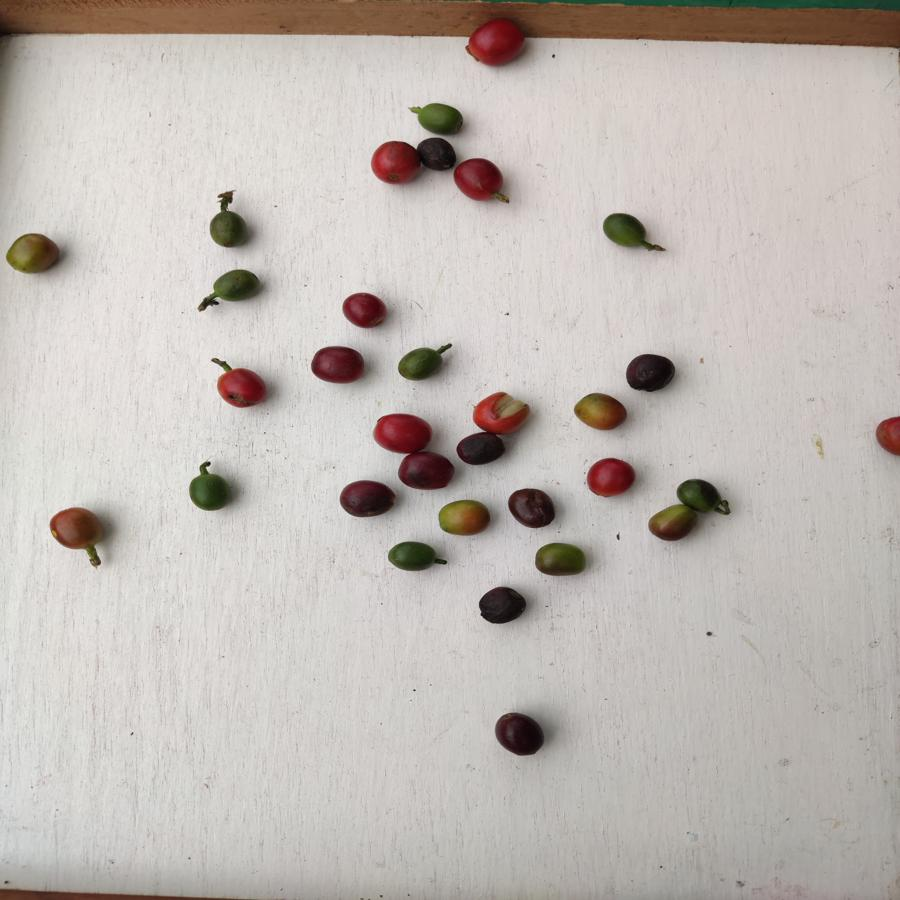Inmaduro: (413, 101, 466, 138), (601, 211, 650, 250), (210, 267, 261, 304), (676, 476, 724, 514), (396, 346, 444, 383), (386, 541, 436, 576), (187, 474, 231, 512), (208, 210, 248, 249)
Maduro: (466, 18, 525, 66), (471, 389, 531, 432), (374, 411, 431, 453), (213, 368, 268, 408), (370, 141, 419, 185), (456, 157, 503, 200), (586, 457, 636, 497), (875, 414, 900, 458)
Pinton: (50, 508, 107, 550), (5, 232, 61, 274), (572, 393, 629, 432), (437, 499, 491, 537), (647, 504, 697, 543), (534, 543, 587, 577)
Sobremaduro: (494, 712, 546, 758), (310, 345, 367, 386), (339, 480, 397, 519), (397, 451, 454, 490), (625, 352, 679, 393), (507, 488, 556, 530), (478, 587, 527, 623), (341, 293, 389, 329), (456, 433, 507, 465), (416, 138, 455, 171)
